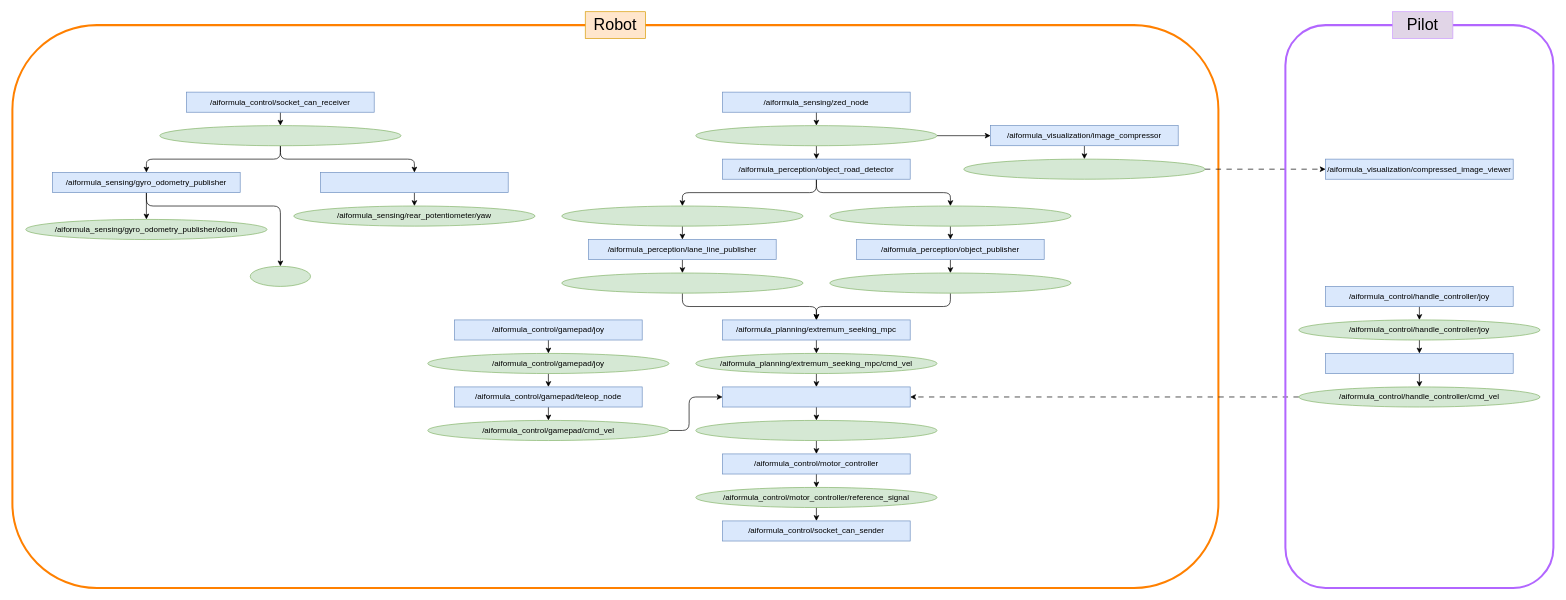
This 1566x600 diagram has some shape labels left out. Here are the shapes that lost their labels. From the top down, the centre of each, then its label:
At point (280, 135): "/aiformula_sensing/vehicle_info".
At point (816, 135): "/aiformula_sensing/zed_node/left_image/undistorted".
At point (414, 182): "/aiformula_sensing/rear_potentiometer".
At point (1084, 168): "/aiformula_ visualization /zed/left_image/compressed".
At point (682, 215): "/aiformula_perception/object_road_detector/mask_image".
At point (950, 215): "/aiformula_perception/object_road_detector/rect".
At point (280, 276): "/tf".
At point (682, 282): "/aiformula_perception/lane_line_publisher/lane_lines/*".
At point (950, 282): "/aiformula_perception/object_publisher/object_info".
At point (1419, 363): "/aiformula_control/ handle_controller /teleop_node".
At point (816, 396): "/aiformula_control/twist_mux".
At point (816, 430): "/aiformula_control/twist_mux/cmd_vel".
